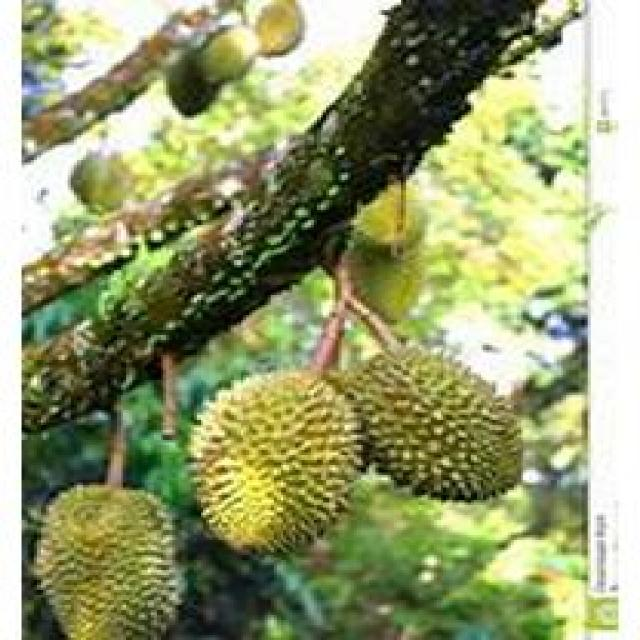fruit: (175, 340, 394, 582), (338, 318, 536, 522), (24, 477, 190, 640)
